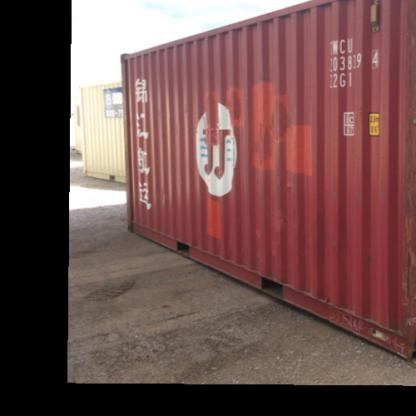Damage: (400, 216, 413, 341), (401, 94, 414, 216), (400, 1, 415, 92)
